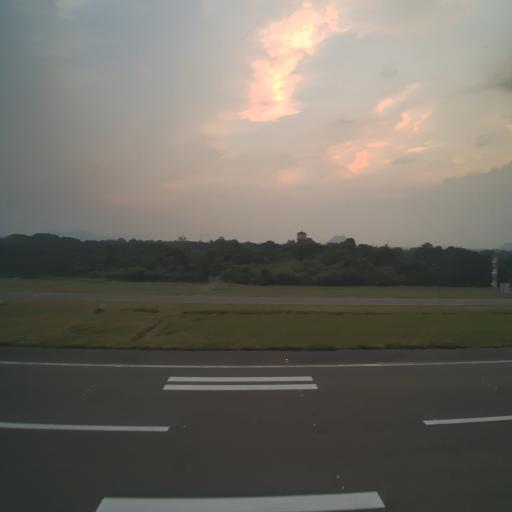on: (285, 358, 290, 363)
